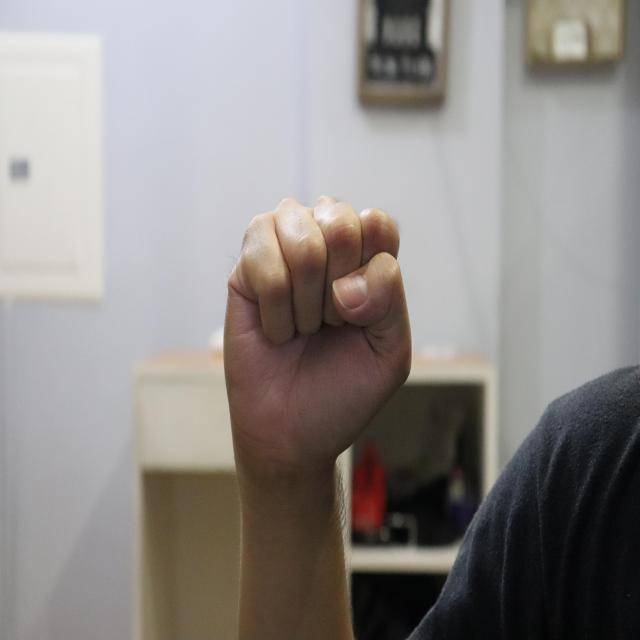S: (224, 196, 412, 478)
